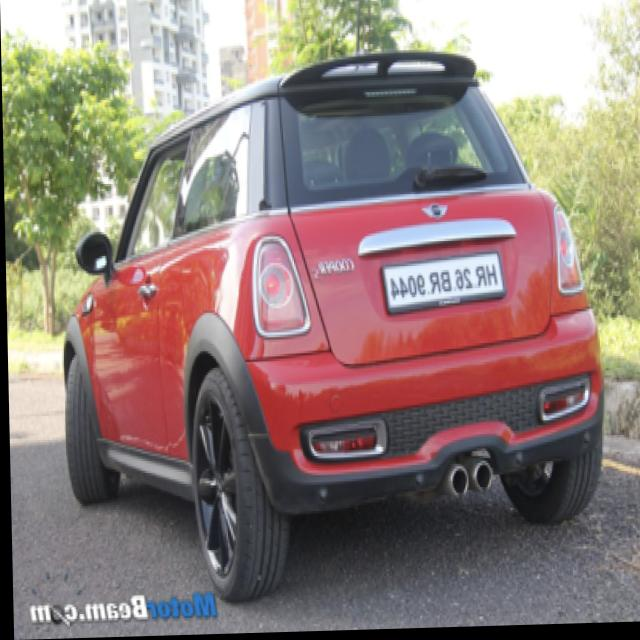licence: (381, 249, 502, 324)
